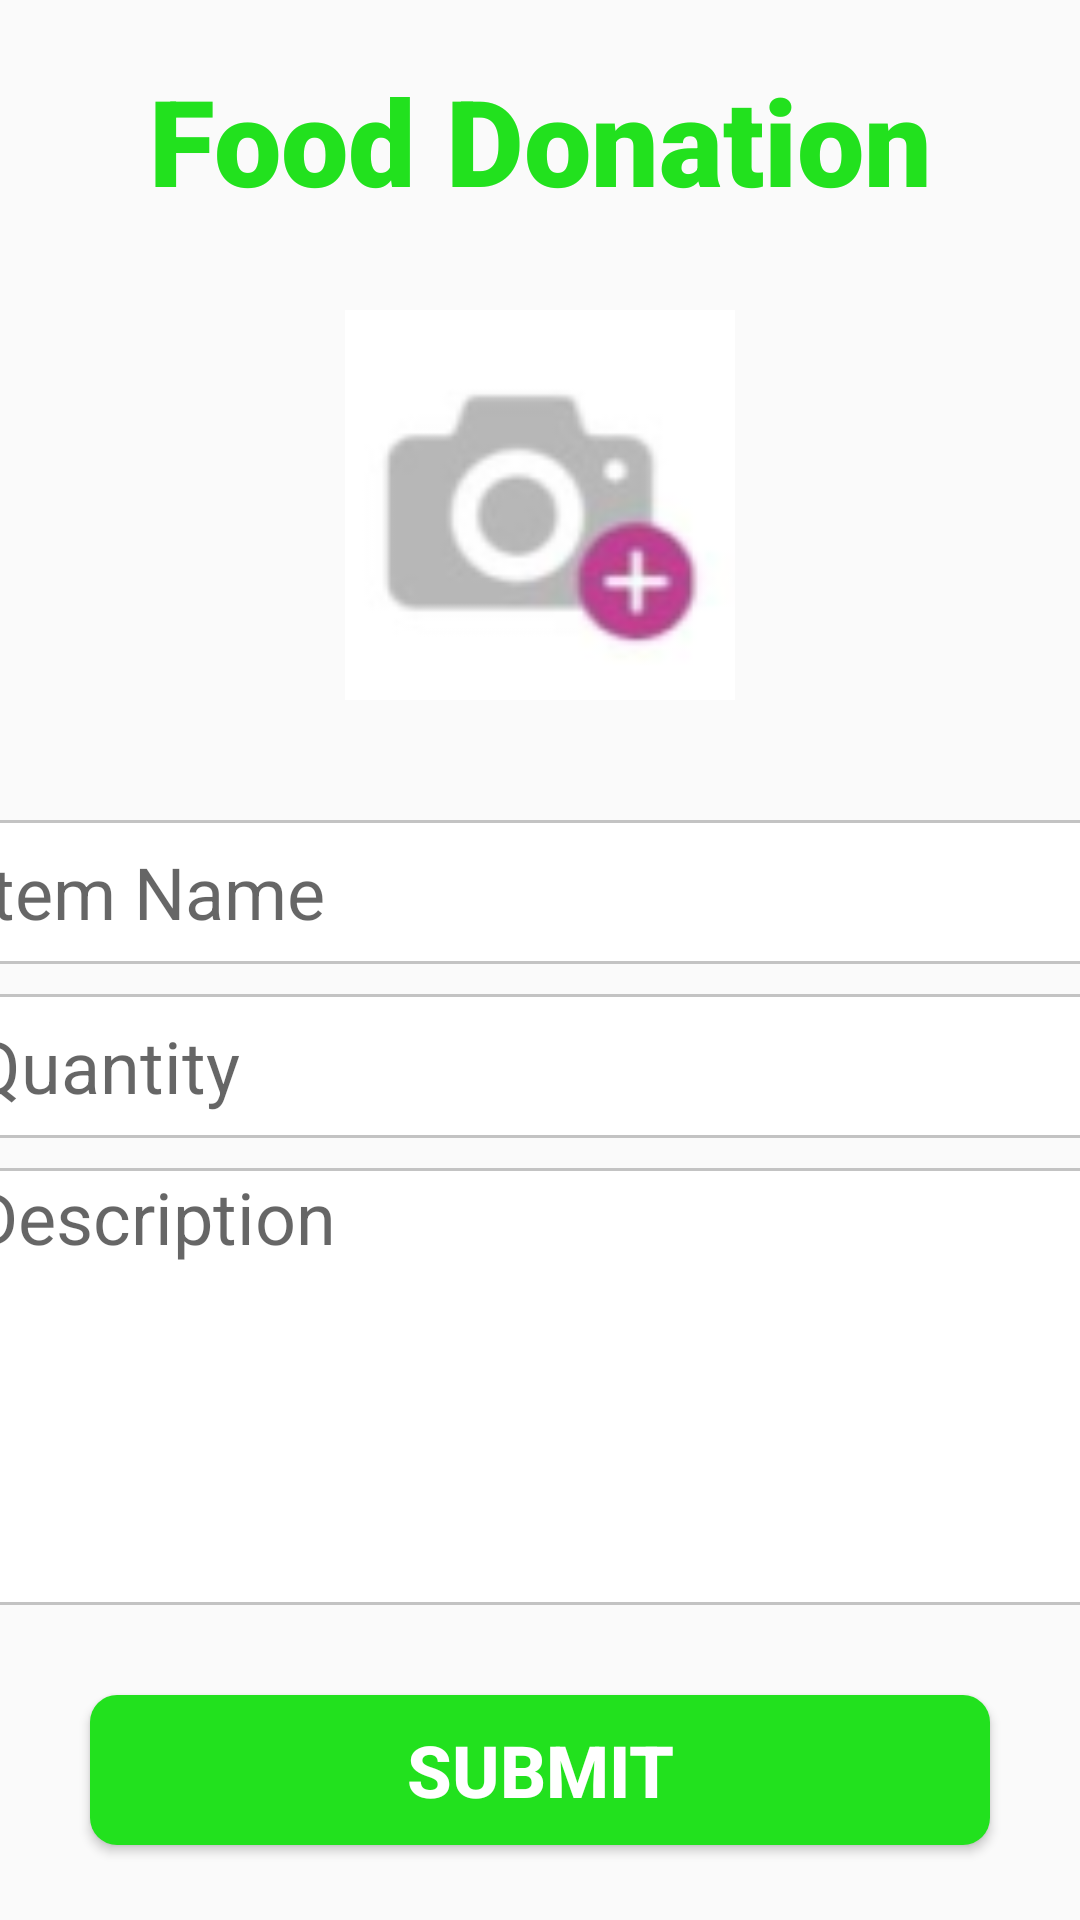

Icons on this 1080 × 1920 Android screen, each with its box as (x1, y1, x2, y2):
upload: (387, 395, 698, 644)
